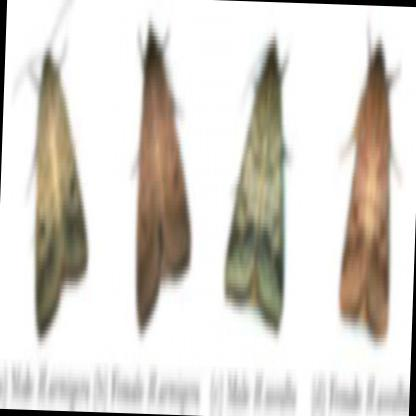helicoverpa: (27, 45, 90, 359), (221, 41, 283, 338), (135, 27, 193, 334), (340, 42, 391, 348)
